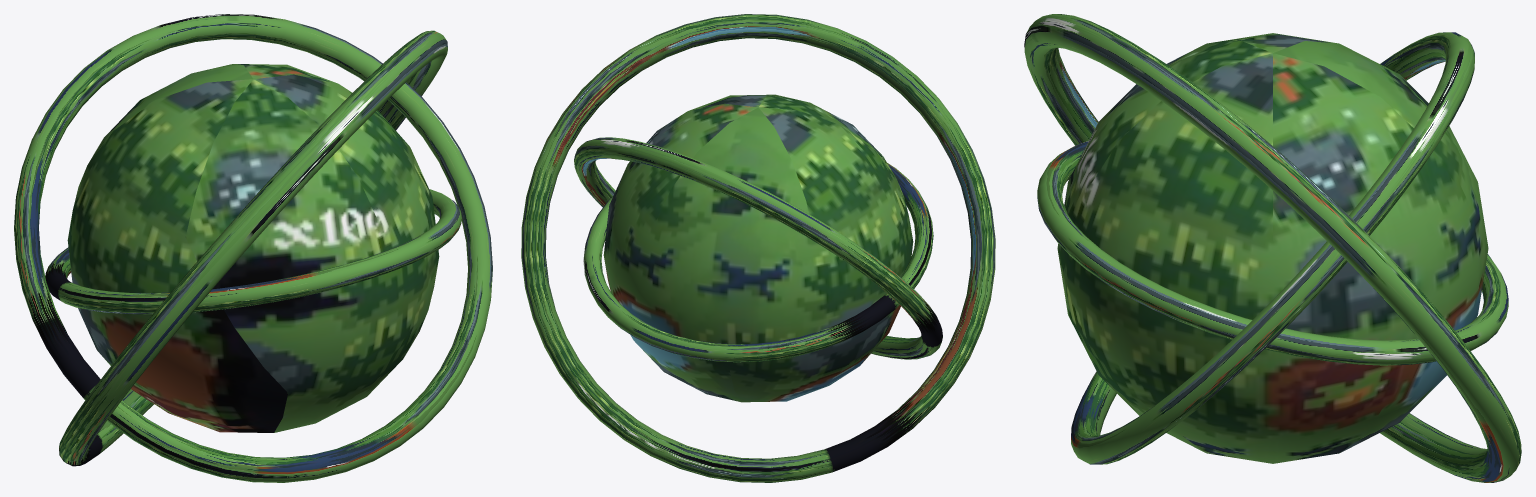
File: special-bubble.glb
3 views of the same model, side by side, from view 1: azimuth 30°, elevation 25°; view 2: azimuth 150°, elevation 25°; view 3: azimuth 270°, elevation 25° (orthographic). The views are drawn at different scales.
Parts seen in each view (by area): view 1: Icosphere, Ring 2, Ring 3, Ring 1; view 2: Icosphere, Ring 3, Ring 2, Ring 1; view 3: Icosphere, Ring 3, Ring 2, Ring 1.
Part boxes in pixels (x1=…): Icosphere: x1=67, y1=64, x2=439, y2=432; Ring 2: x1=14, y1=14, x2=492, y2=482; Ring 3: x1=59, y1=30, x2=447, y2=466; Ring 1: x1=45, y1=189, x2=461, y2=314; Icosphere: x1=603, y1=94, x2=913, y2=402; Ring 3: x1=521, y1=14, x2=995, y2=482; Ring 2: x1=574, y1=137, x2=942, y2=359; Ring 1: x1=583, y1=163, x2=933, y2=362; Icosphere: x1=1057, y1=33, x2=1488, y2=463; Ring 3: x1=1024, y1=14, x2=1521, y2=482; Ring 2: x1=1071, y1=32, x2=1474, y2=464; Ring 1: x1=1037, y1=141, x2=1508, y2=365.
Size of the model in its own units: 2.71 by 2.54 by 2.31.
Materials: 1 (1 with a texture image).
